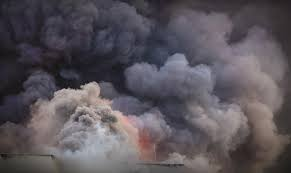smoke: (2, 1, 291, 163)
